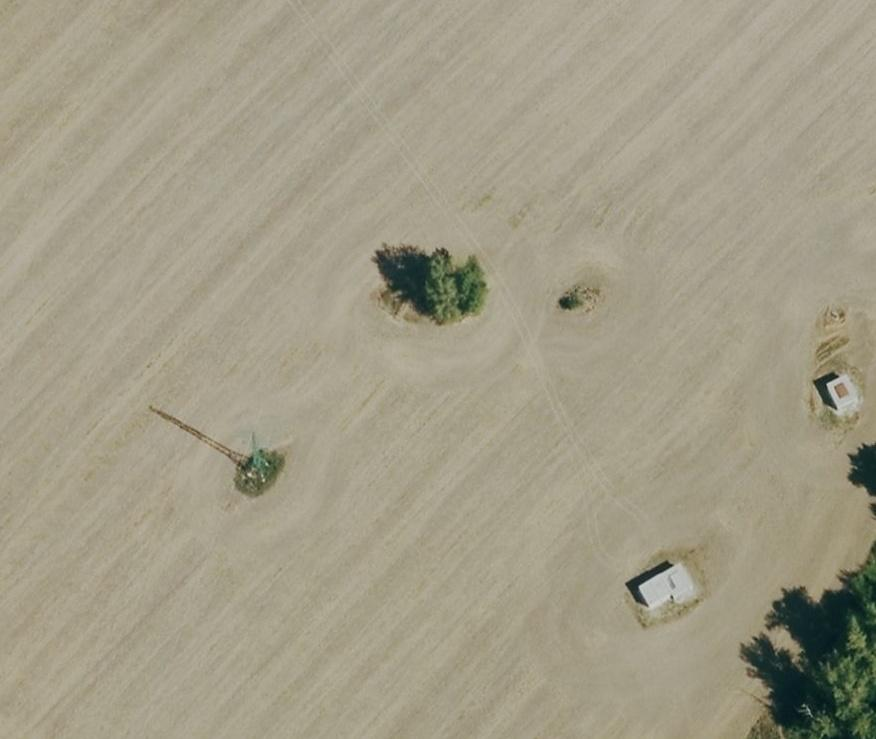field: (0, 3, 876, 736)
forest: (741, 544, 876, 737), (849, 445, 876, 496)
